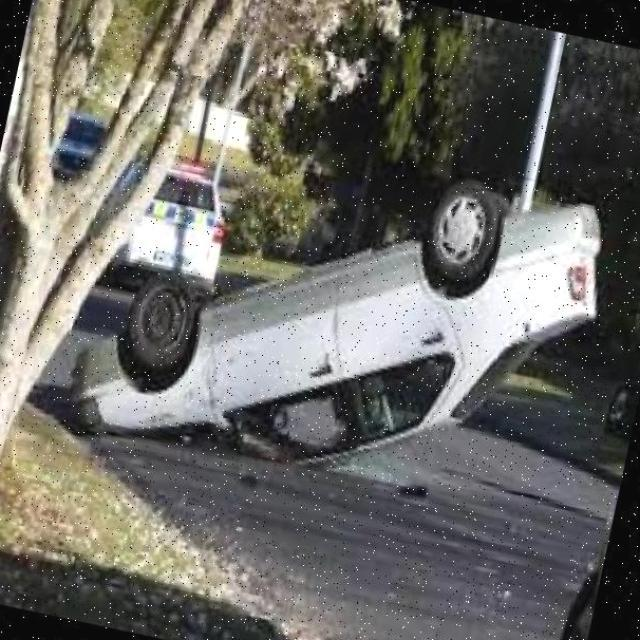accident: (57, 102, 624, 539)
